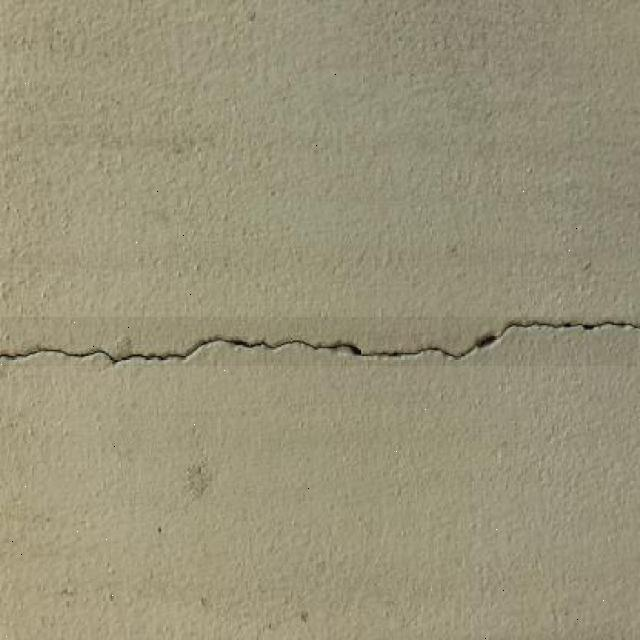crack: (0, 316, 639, 367)
